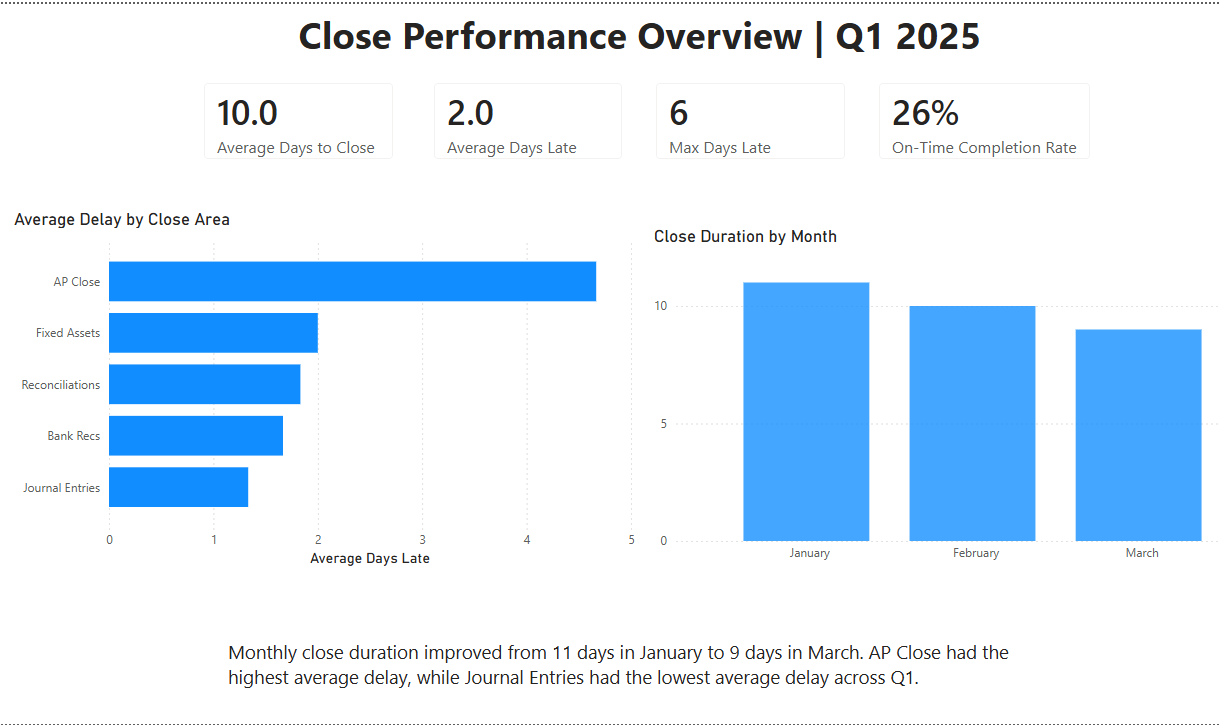

What the dashboard file says about the page in this screenshot:
{"tool":"powerbi","page":{"name":"Page 1","canvas":[1280,720],"ordinal":0},"visuals":[{"type":"cardVisual","fields":{"Data":["Month_End_Close_Tracker.Average Days to Close"]},"box":[187.2,62.4,222.5,109.2],"z":0},{"type":"cardVisual","fields":{"Data":["Month_End_Close_Tracker.Average Days Late"]},"box":[417,62.4,222.5,109.2],"z":1000},{"type":"cardVisual","fields":{"Data":["Month_End_Close_Tracker.Max Days Late"]},"box":[639.5,62.4,222.5,109.2],"z":2000},{"type":"cardVisual","fields":{"Data":["Month_End_Close_Tracker.On-Time Completion Rate"]},"box":[862,62.4,245.4,109.2],"z":3000},{"type":"clusteredBarChart","title":"Average Delay by Close Area","fields":{"Category":["Month_End_Close_Tracker.Task Category"],"Y":["Month_End_Close_Tracker.Average Days Late"]},"box":[9.5,204.5,630.5,362.7],"z":4000},{"type":"clusteredColumnChart","title":"Close Duration by Month","fields":{"Category":["Month_End_Close_Tracker.Month.Variation.Date Hierarchy.Month"],"Y":["Month_End_Close_Tracker.Days to Close"]},"box":[649.5,222.5,630.5,344.8],"z":5000},{"type":"textbox","box":[0,0,1280,62.2],"z":6000},{"type":"textbox","box":[222.5,630.1,814.2,90.5],"z":7000}]}

Visuals, with their boxes on the page's 1280x720 design canvas (x1, y1, x2, y2). These are canvas units, not pixel positions in the 1220x725 screenshot, which may show the page scaled, cropped or inside an application window:
cardVisual - Month_End_Close_Tracker.Average Days to Close: BBox(187, 62, 410, 172)
cardVisual - Month_End_Close_Tracker.Average Days Late: BBox(417, 62, 640, 172)
cardVisual - Month_End_Close_Tracker.Max Days Late: BBox(640, 62, 862, 172)
cardVisual - Month_End_Close_Tracker.On-Time Completion Rate: BBox(862, 62, 1107, 172)
"Average Delay by Close Area" clusteredBarChart: BBox(10, 204, 640, 567)
"Close Duration by Month" clusteredColumnChart: BBox(650, 222, 1280, 567)
textbox: BBox(0, 0, 1280, 62)
textbox: BBox(222, 630, 1037, 721)
